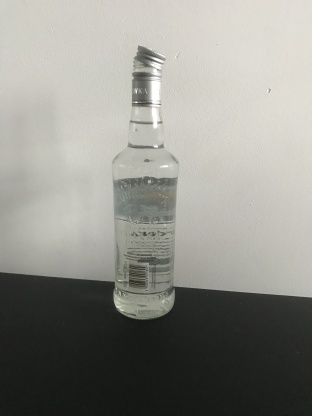nakretka: (129, 43, 167, 108)
